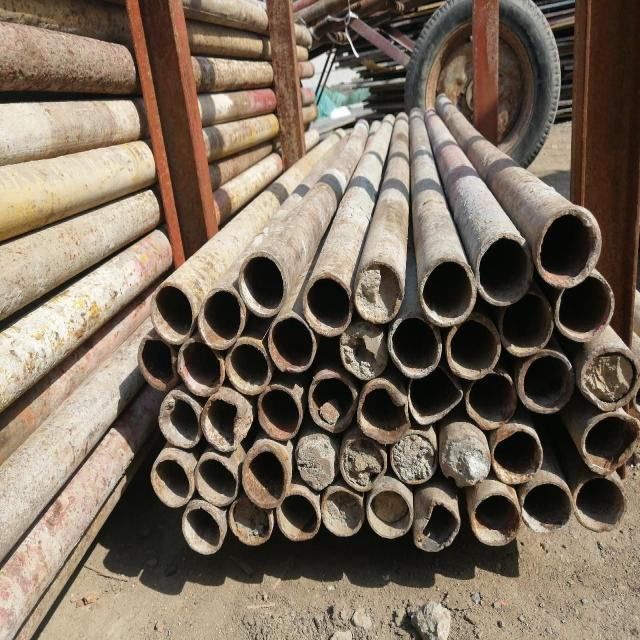pipe: (537, 208, 603, 288), (474, 228, 534, 308), (556, 272, 616, 344), (580, 344, 640, 414), (419, 252, 475, 326), (442, 314, 500, 380), (580, 414, 640, 476), (302, 266, 353, 338), (194, 283, 246, 353), (388, 314, 442, 381), (304, 367, 358, 434), (500, 292, 556, 356), (350, 259, 404, 325), (518, 350, 572, 416), (358, 376, 410, 442), (338, 312, 388, 380), (176, 337, 226, 400), (470, 488, 522, 548), (389, 428, 440, 489), (241, 444, 287, 511), (574, 473, 626, 532), (414, 489, 461, 554), (240, 252, 286, 318), (406, 374, 464, 426), (440, 428, 492, 486), (491, 428, 543, 486), (521, 478, 573, 536), (224, 333, 271, 397), (268, 313, 317, 374), (202, 389, 248, 452), (291, 430, 337, 493), (150, 281, 194, 345), (467, 372, 515, 430), (338, 432, 386, 490), (319, 482, 366, 540), (255, 382, 302, 439), (136, 332, 180, 392), (158, 388, 202, 448), (274, 488, 322, 542), (367, 487, 414, 540), (148, 454, 194, 508), (180, 500, 224, 556), (192, 453, 238, 506), (228, 496, 274, 546)
